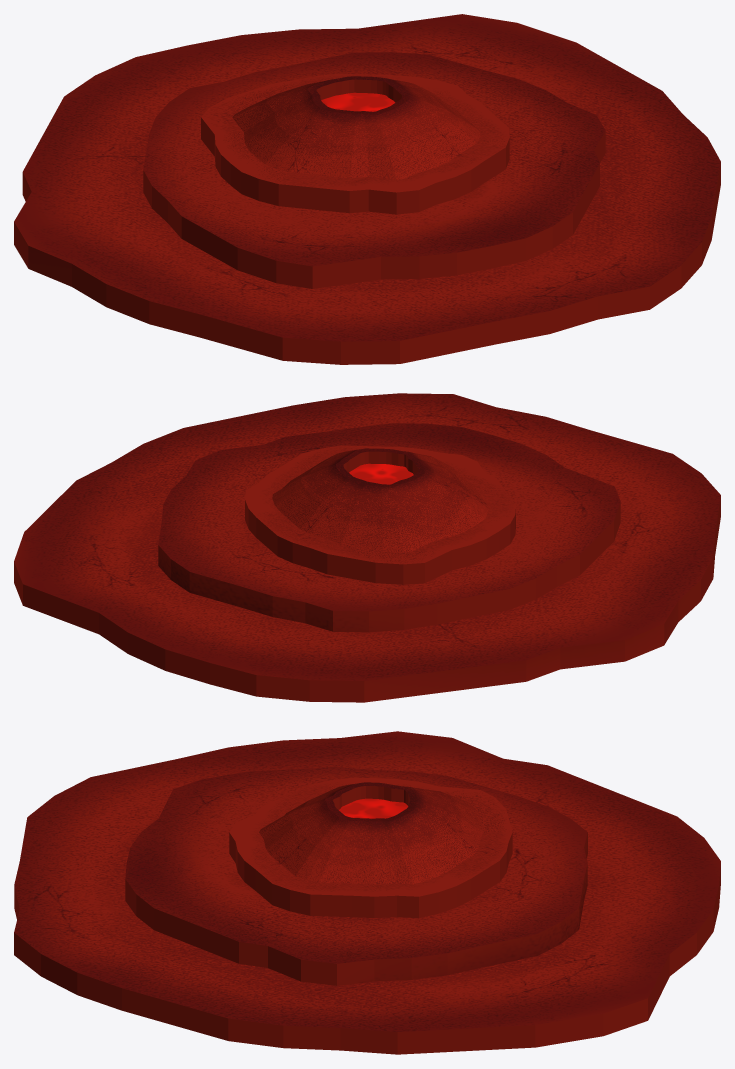
File: VolcanoIsland.fbx
The picture shows the model from 3 angles, top to bottom: view 1: azimuth 30°, elevation 25°; view 2: azimuth 150°, elevation 25°; view 3: azimuth 270°, elevation 25°; orthographic projection. The views are drawn at different scales.
Parts seen in each view (by area): view 1: VolcanoIsland; view 2: VolcanoIsland; view 3: VolcanoIsland.
Part boxes in pixels (<box>): VolcanoIsland: <box>14,14,720,364</box>; VolcanoIsland: <box>14,393,720,702</box>; VolcanoIsland: <box>14,731,720,1054</box>.
Bounding box in the file's own units: 5721 × 907 × 5683.
